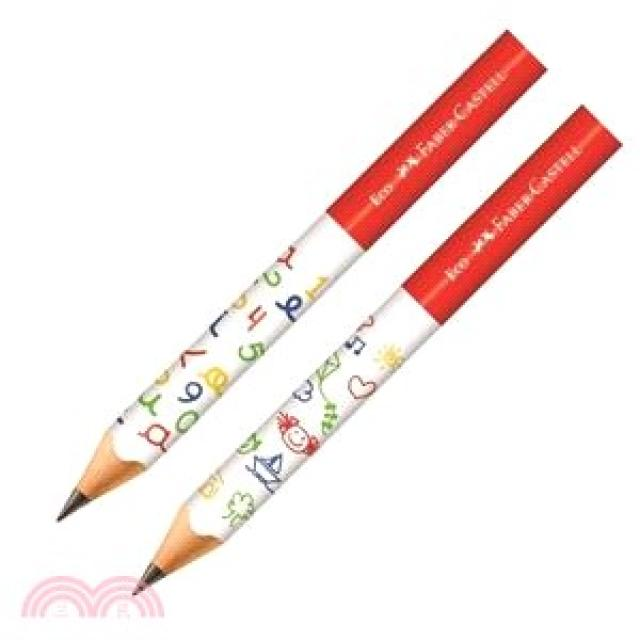pencil: (119, 95, 635, 609), (46, 17, 558, 535)
